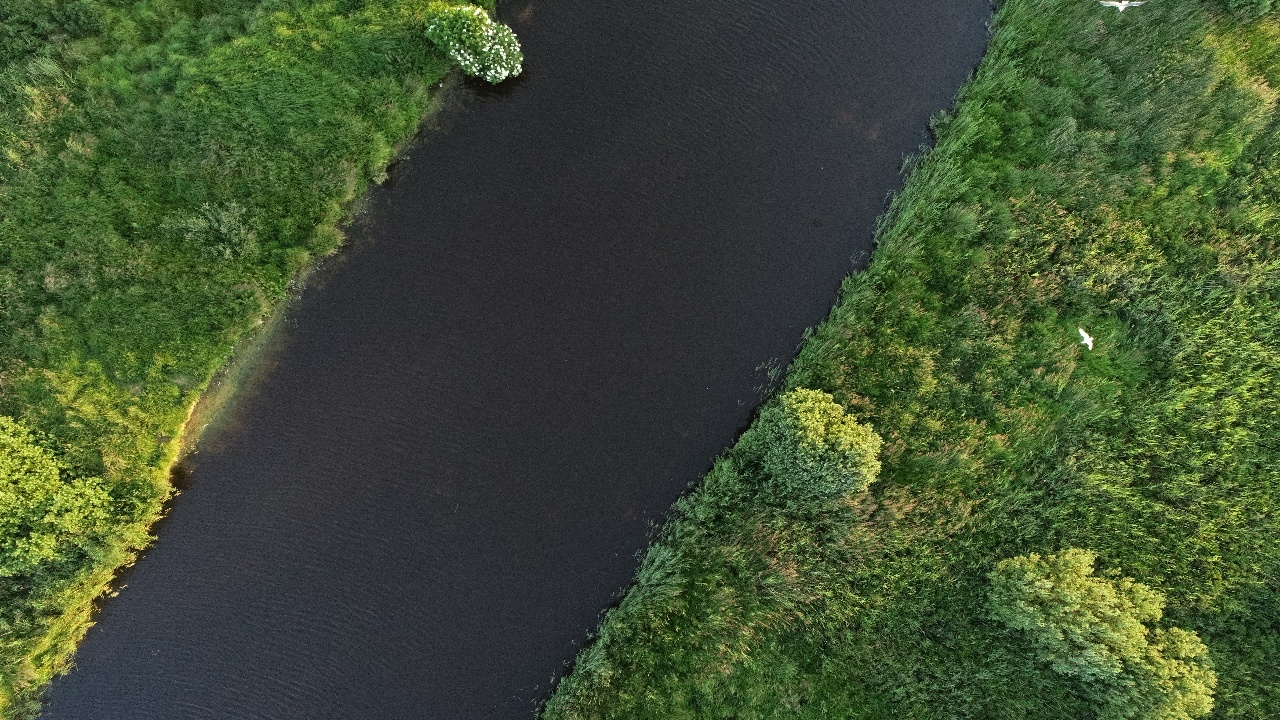Bird: (1068, 319, 1109, 361)
